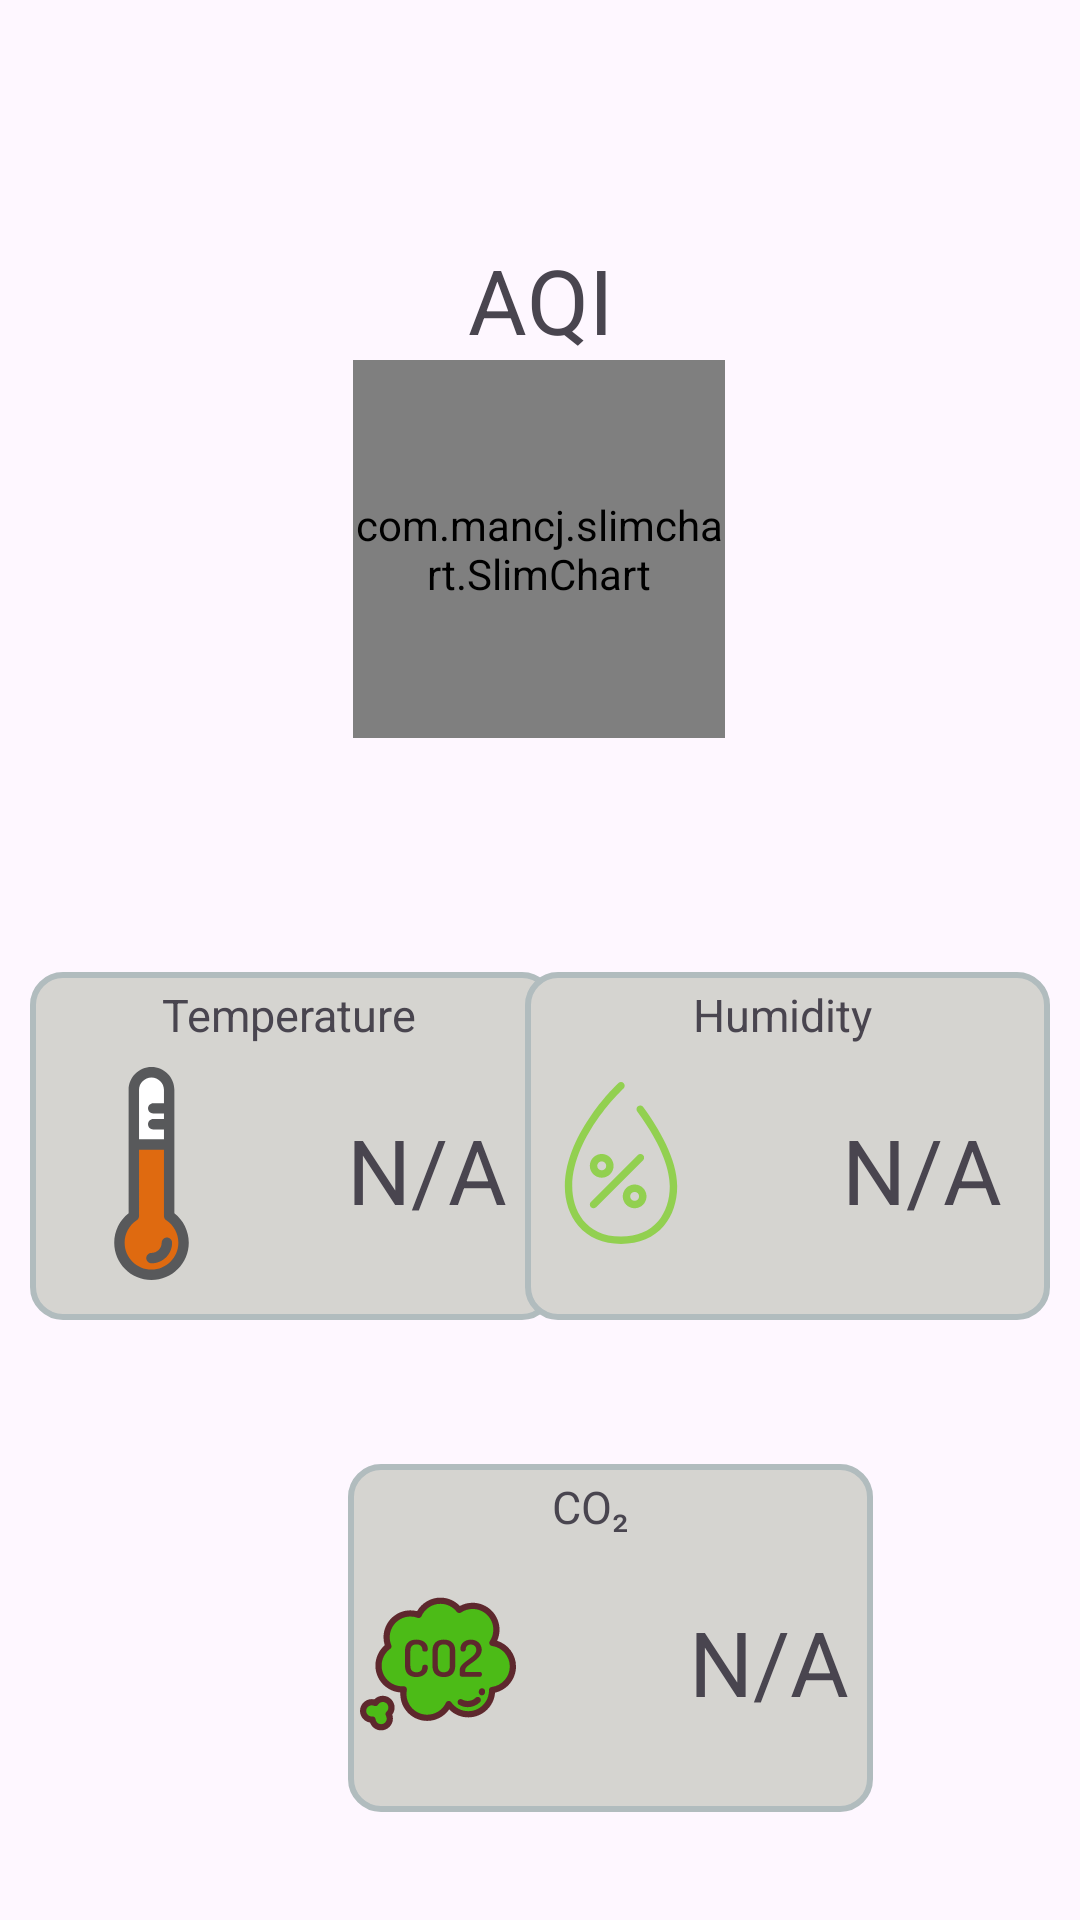

Icons on this 1080×1920 Android screen, each with its box as detection(x1, y1, x2, y2):
thermometer: detection(114, 1067, 189, 1280)
